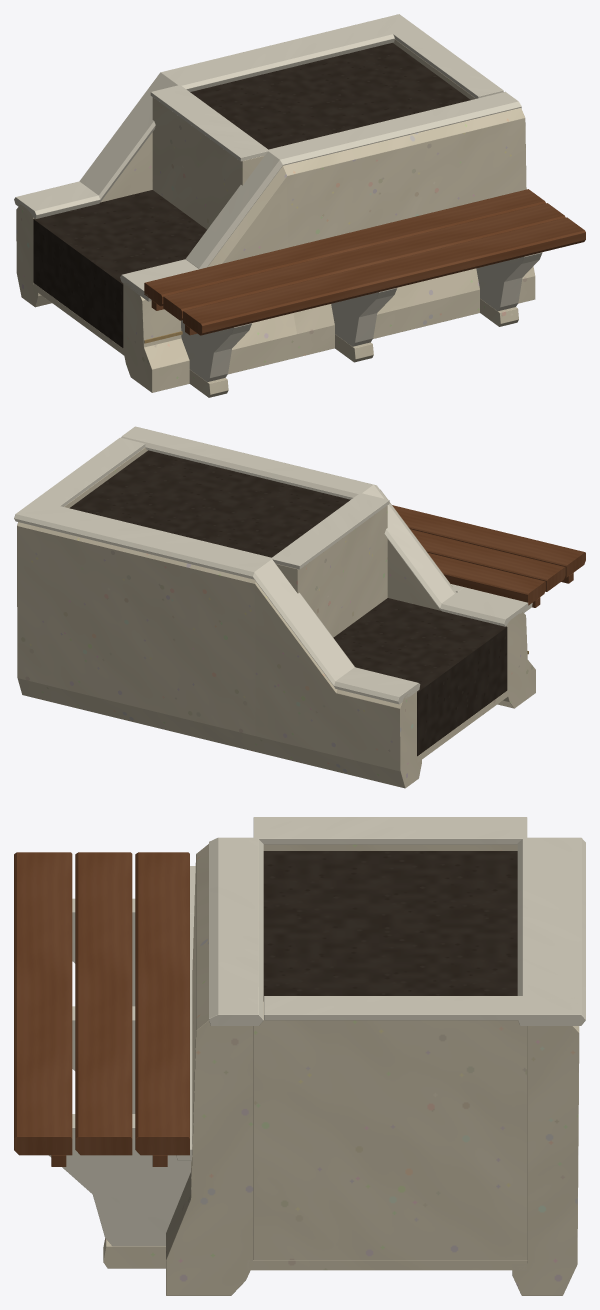
The model's file is AST-BOT-010.glb.
3 renders of one model, top to bottom at view 1: azimuth 30°, elevation 25°; view 2: azimuth 150°, elevation 25°; view 3: azimuth 270°, elevation 25°, orthographic. The views are drawn at different scales.
Parts seen in each view (by area): view 1: ASTRAEA_planted_seat_warm_stone, ASTRAEA_planted_seat_ivory_enamel, ASTRAEA_planted_seat_botanical_soil, ASTRAEA_planted_seat_warm_walnut; view 2: ASTRAEA_planted_seat_warm_stone, ASTRAEA_planted_seat_botanical_soil, ASTRAEA_planted_seat_ivory_enamel, ASTRAEA_planted_seat_warm_walnut; view 3: ASTRAEA_planted_seat_warm_stone, ASTRAEA_planted_seat_warm_walnut, ASTRAEA_planted_seat_ivory_enamel, ASTRAEA_planted_seat_botanical_soil.
Boxes of the visible parts, x1=… form: ASTRAEA_planted_seat_warm_stone: x1=16, y1=39, x2=535, y2=397; ASTRAEA_planted_seat_ivory_enamel: x1=14, y1=14, x2=542, y2=381; ASTRAEA_planted_seat_botanical_soil: x1=33, y1=43, x2=470, y2=347; ASTRAEA_planted_seat_warm_walnut: x1=144, y1=189, x2=585, y2=335; ASTRAEA_planted_seat_warm_stone: x1=17, y1=447, x2=535, y2=788; ASTRAEA_planted_seat_botanical_soil: x1=69, y1=450, x2=507, y2=756; ASTRAEA_planted_seat_ivory_enamel: x1=14, y1=426, x2=532, y2=704; ASTRAEA_planted_seat_warm_walnut: x1=392, y1=505, x2=585, y2=607; ASTRAEA_planted_seat_warm_stone: x1=103, y1=844, x2=579, y2=1295; ASTRAEA_planted_seat_warm_walnut: x1=14, y1=852, x2=189, y2=1166; ASTRAEA_planted_seat_ivory_enamel: x1=49, y1=817, x2=585, y2=1246; ASTRAEA_planted_seat_botanical_soil: x1=263, y1=851, x2=517, y2=1001.
Bounding box in the file's own units: 1.8 × 0.83 × 1.53.
5 materials, 5 textured.
